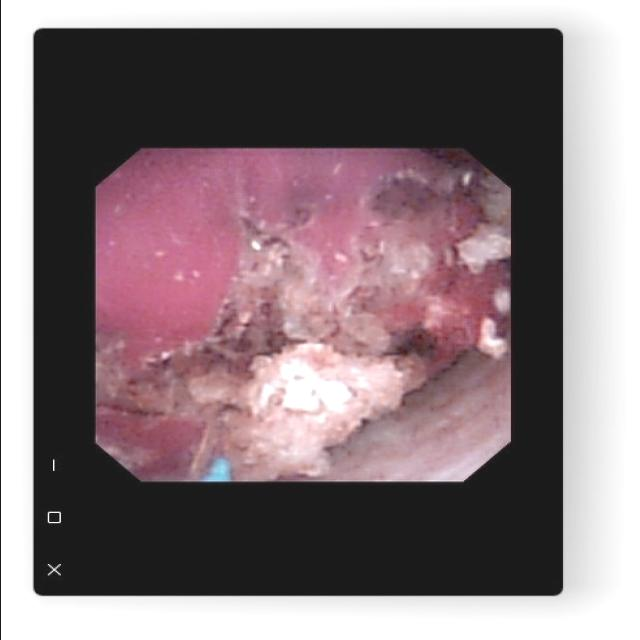stone: (102, 206, 424, 478), (459, 180, 506, 277), (475, 317, 505, 358)
